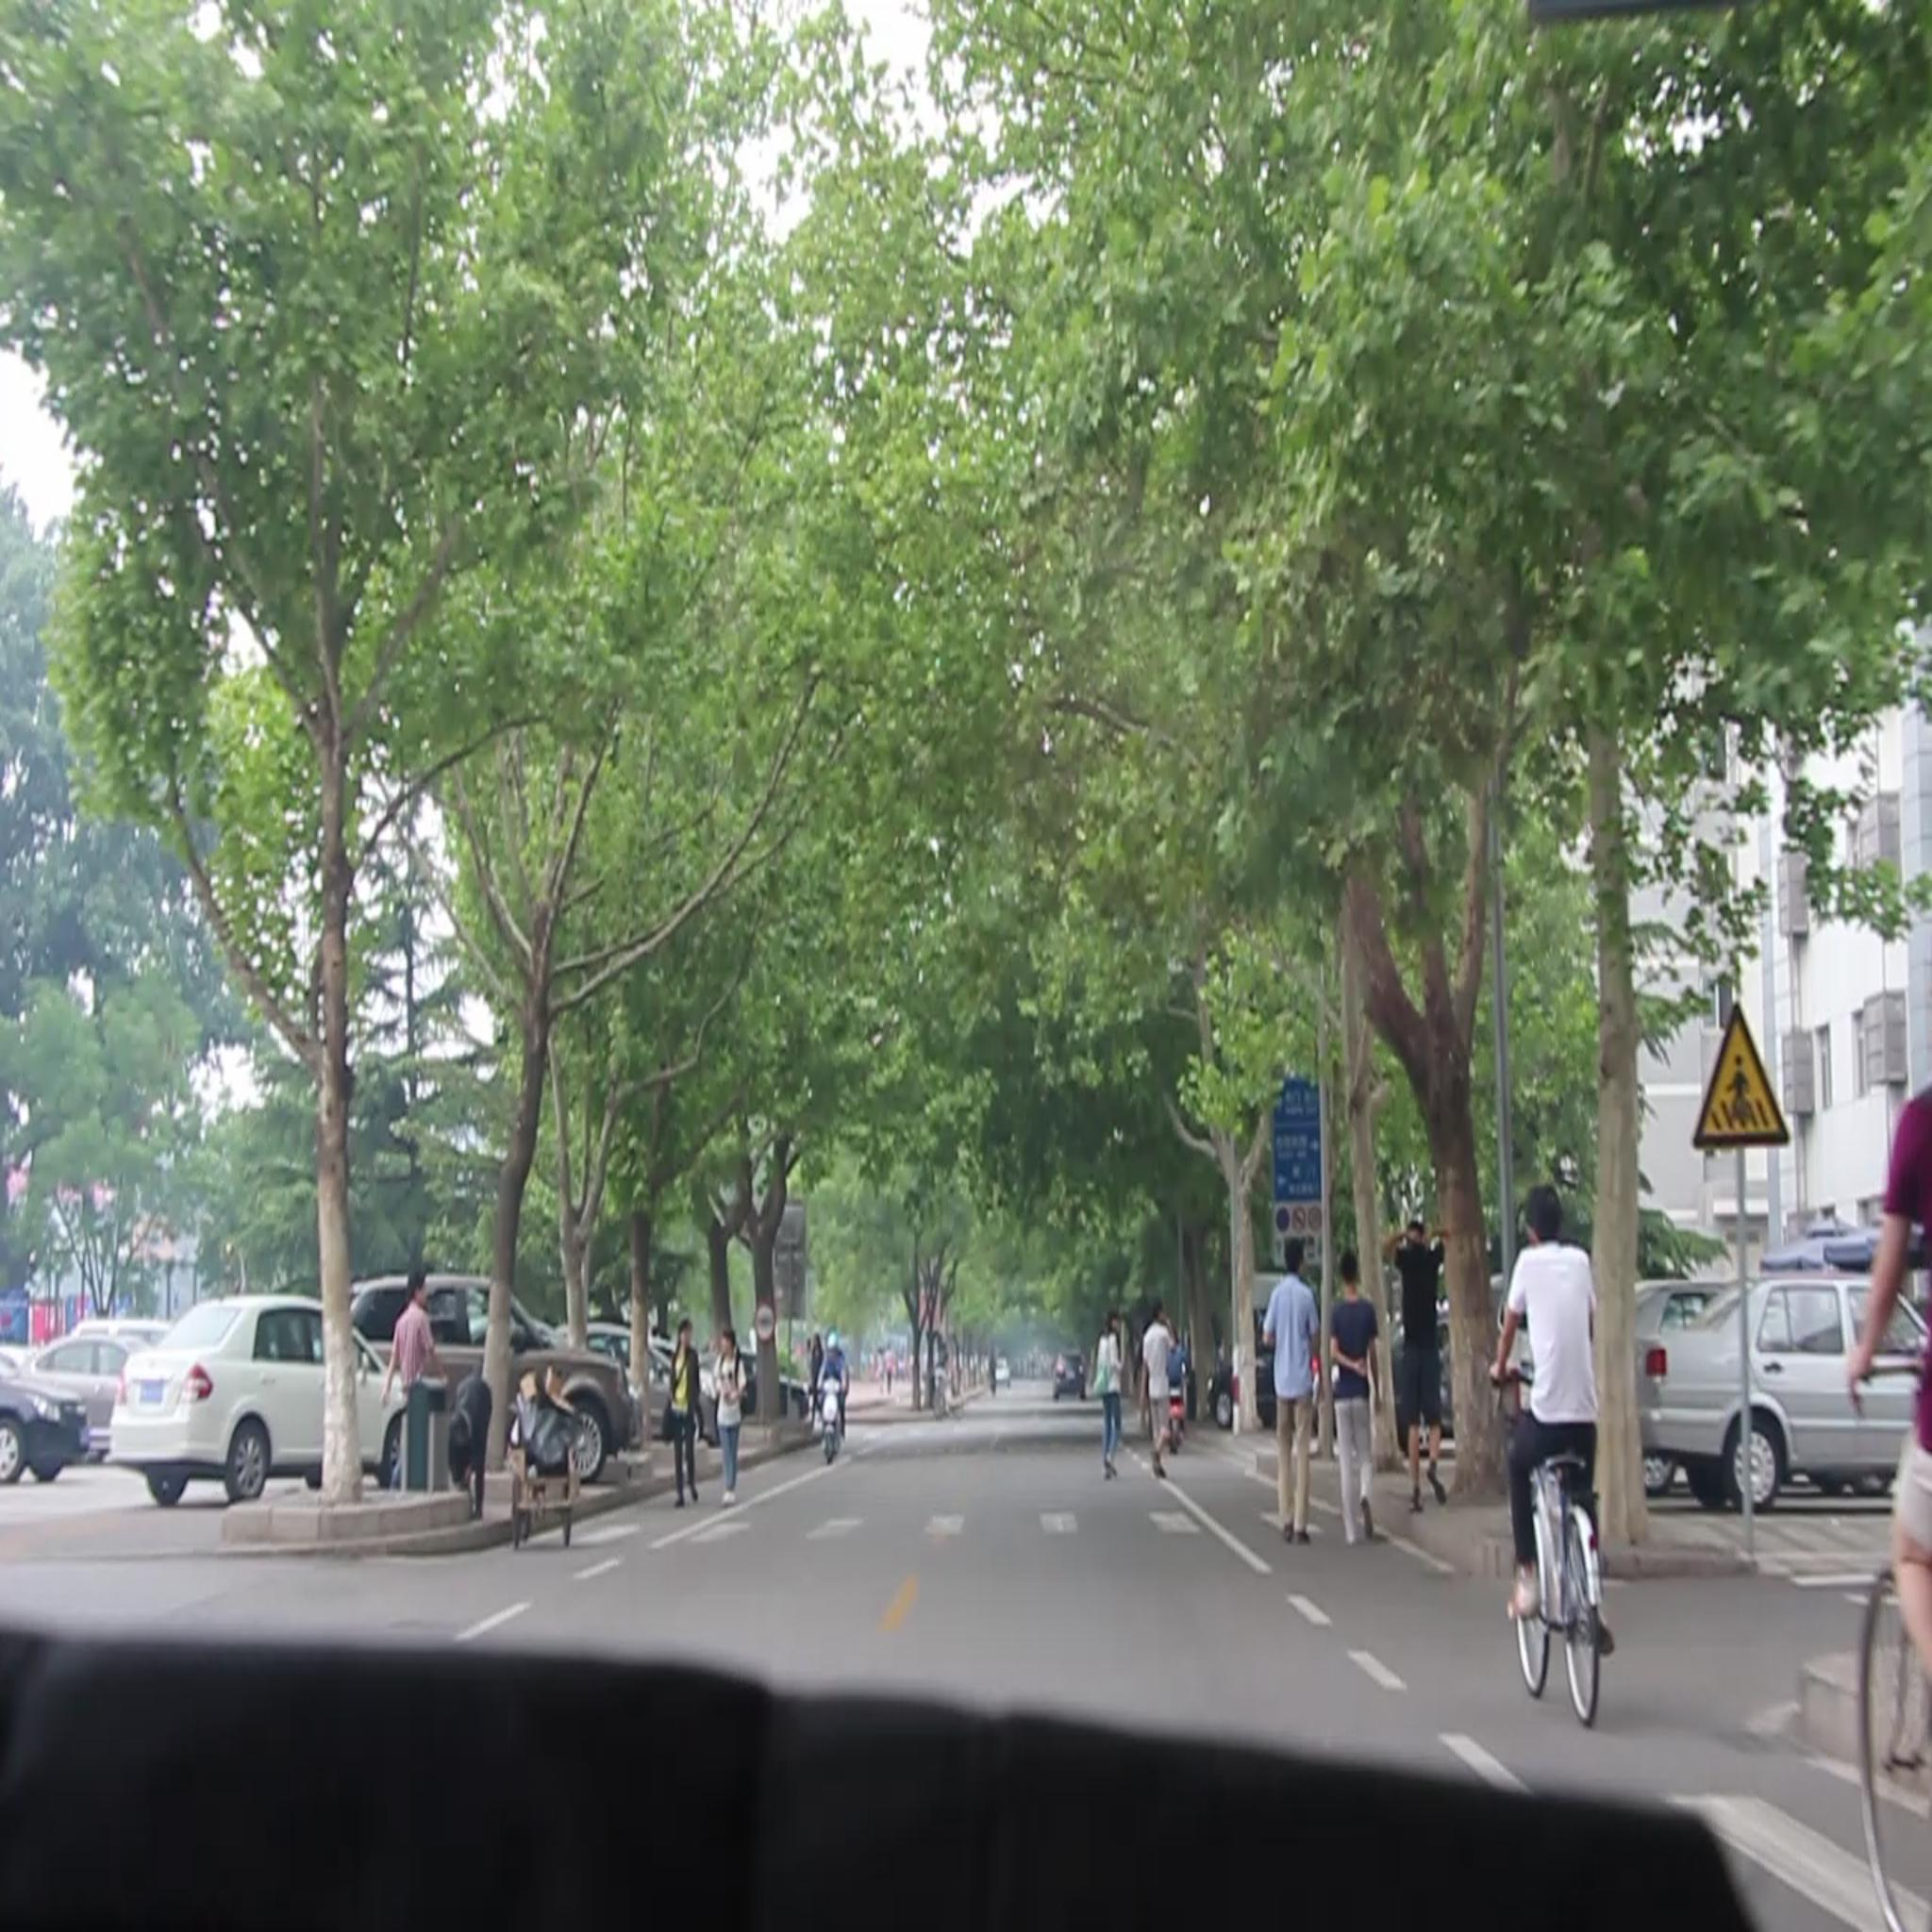w57: (1686, 1000, 1783, 1152)
